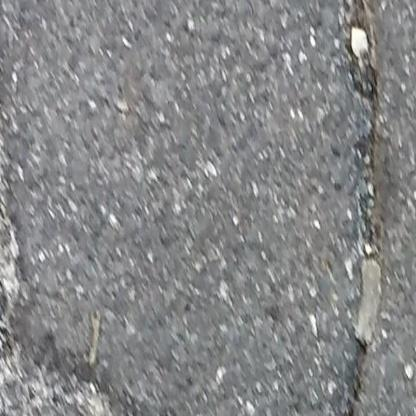Cracks: (0, 30, 185, 416), (333, 0, 385, 416)
